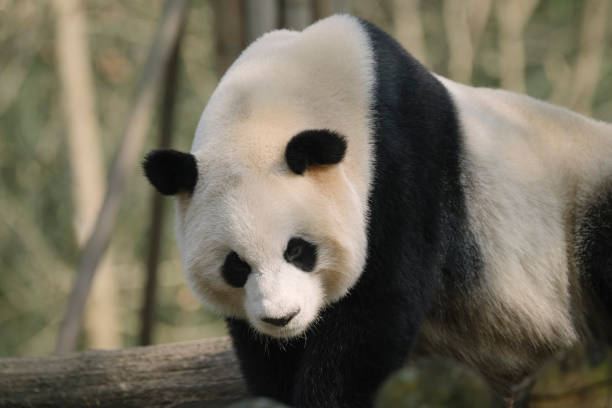panda: (110, 123, 393, 360)
